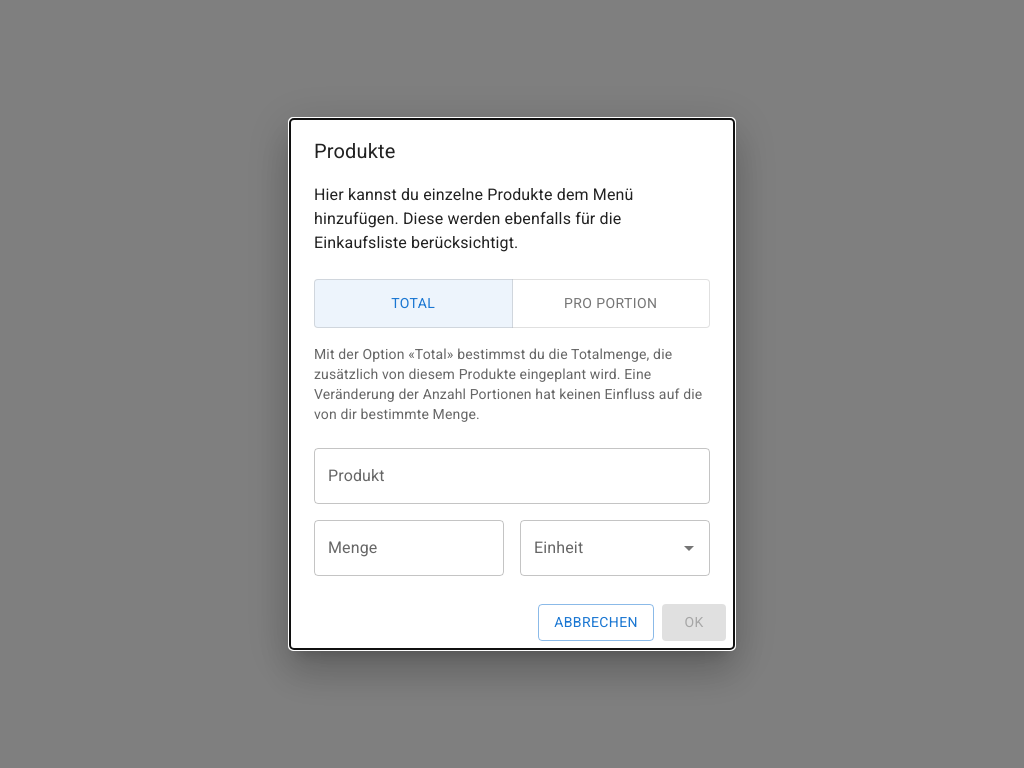
Test: DialogGoods › sollte Fehlermeldung bei negativer Menge anzeigen
Note: Menge auf -1 setzen
In the number field labelled "Menge": x=409, y=548 x1=314 y1=520 x2=504 y2=576, type "-1"
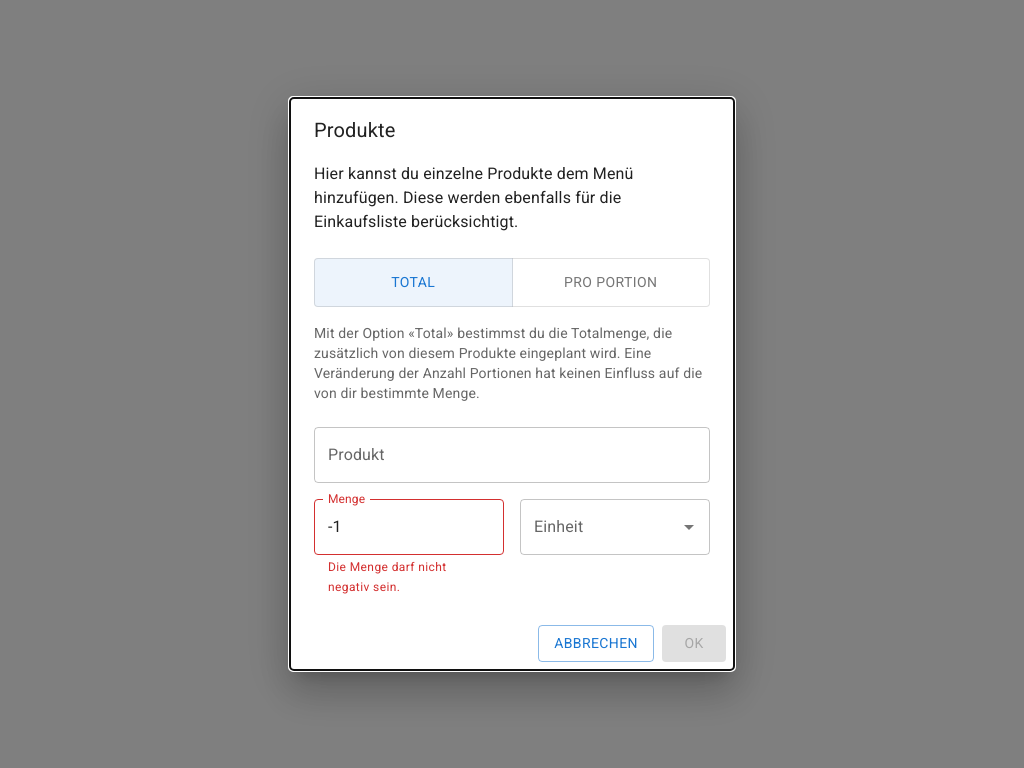
Check: the text "Die Menge darf nicht negativ sein." is shown, box x1=328 y1=560 x2=447 y2=594
